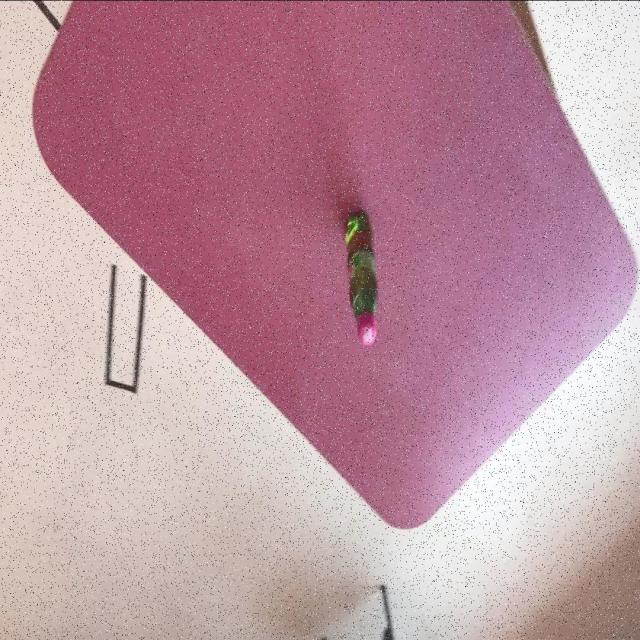Guarana: (343, 209, 378, 345)
